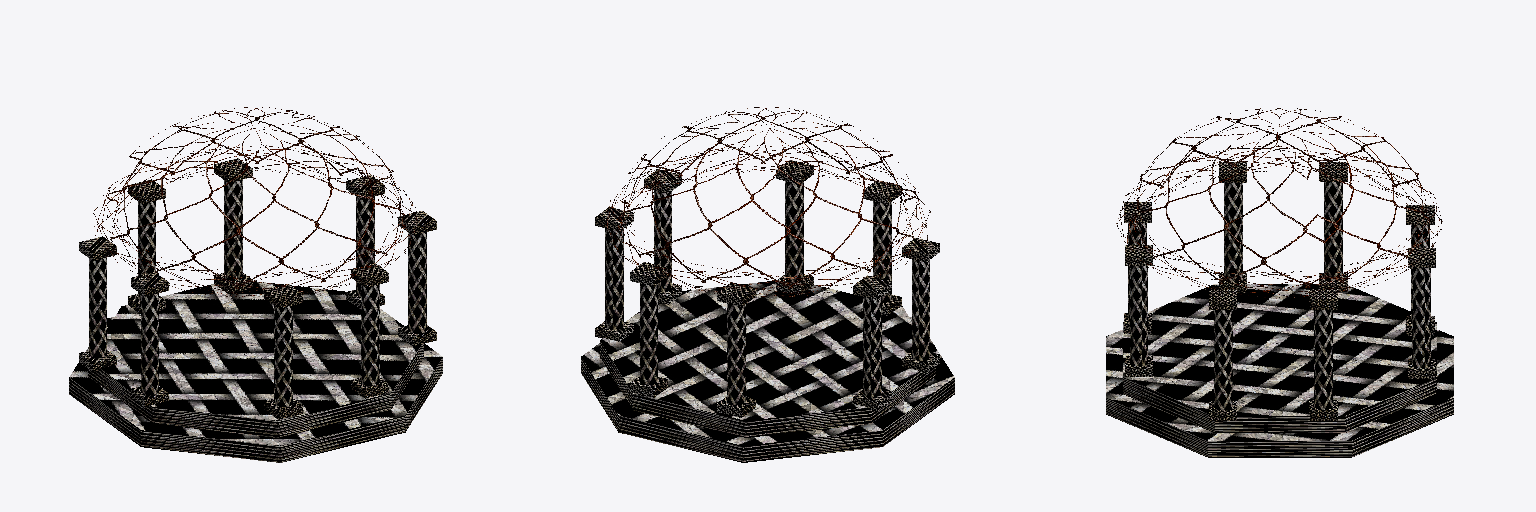
The picture shows the model from 3 angles: view 1: azimuth 30°, elevation 25°; view 2: azimuth 150°, elevation 25°; view 3: azimuth 270°, elevation 25°; orthographic projection.
Visible parts, largest first — view 1: pCylinder2, pCylinder1, pSphere1, pTorus1, group3 pCylinder3, group3 group2 pCylinder3, group5 group2 pCylinder3, group6 group2 pCylinder3, pCylinder3, group4 pCylinder3, group4 group2 pCylinder3, group5 pCylinder3 (+8 smaller); view 2: pCylinder2, pCylinder1, pSphere1, pTorus1, group4 group2 pCylinder3, pCylinder3, group5 pCylinder3, group4 pCylinder3, group6 group2 pCylinder3, group3 pCylinder3, group3 group2 pCylinder3, group5 group2 pCylinder3 (+8 smaller); view 3: pCylinder2, pCylinder1, pSphere1, pTorus1, group5 group2 pCylinder3, group4 pCylinder3, group5 pCylinder3, group3 pCylinder3, group6 group2 pCylinder3, pCylinder3, group5 pCube2, group5 group2 pCube2 (+2 smaller).
Part boxes in pixels (left/top/right/bottom): pCylinder2: left=88, top=281, right=423, bottom=437; pCylinder1: left=69, top=317, right=442, bottom=462; pSphere1: left=107, top=107, right=404, bottom=288; pTorus1: left=93, top=145, right=417, bottom=297; group3 pCylinder3: left=361, top=284, right=379, bottom=385; group3 group2 pCylinder3: left=274, top=306, right=292, bottom=406; group5 group2 pCylinder3: left=408, top=232, right=426, bottom=333; group6 group2 pCylinder3: left=141, top=293, right=158, bottom=394; pCylinder3: left=89, top=258, right=106, bottom=357; group4 pCylinder3: left=224, top=180, right=242, bottom=280; group4 group2 pCylinder3: left=138, top=201, right=155, bottom=300; group5 pCylinder3: left=356, top=196, right=374, bottom=296; pCylinder2: left=600, top=281, right=935, bottom=437; pCylinder1: left=581, top=317, right=954, bottom=462; pSphere1: left=618, top=107, right=916, bottom=288; pTorus1: left=605, top=145, right=930, bottom=297; group4 group2 pCylinder3: left=727, top=304, right=745, bottom=404; pCylinder3: left=863, top=297, right=881, bottom=396; group5 pCylinder3: left=605, top=228, right=623, bottom=329; group4 pCylinder3: left=640, top=284, right=657, bottom=384; group6 group2 pCylinder3: left=912, top=259, right=929, bottom=360; group3 pCylinder3: left=785, top=181, right=803, bottom=282; group3 group2 pCylinder3: left=873, top=201, right=891, bottom=302; group5 group2 pCylinder3: left=654, top=191, right=671, bottom=291; pCylinder2: left=1123, top=284, right=1436, bottom=432; pCylinder1: left=1106, top=330, right=1453, bottom=457; pSphere1: left=1131, top=108, right=1429, bottom=287; pTorus1: left=1116, top=146, right=1442, bottom=298; group5 group2 pCylinder3: left=1214, top=310, right=1232, bottom=410; group4 pCylinder3: left=1412, top=268, right=1430, bottom=367; group5 pCylinder3: left=1314, top=310, right=1332, bottom=409; group3 pCylinder3: left=1130, top=266, right=1147, bottom=365; group6 group2 pCylinder3: left=1224, top=183, right=1242, bottom=282; pCylinder3: left=1324, top=182, right=1342, bottom=280; group5 pCube2: left=1309, top=289, right=1337, bottom=309; group5 group2 pCube2: left=1209, top=290, right=1236, bottom=309.
Size of the model in its own units: 18.48 by 15 by 18.48.
2 materials, 2 textured.